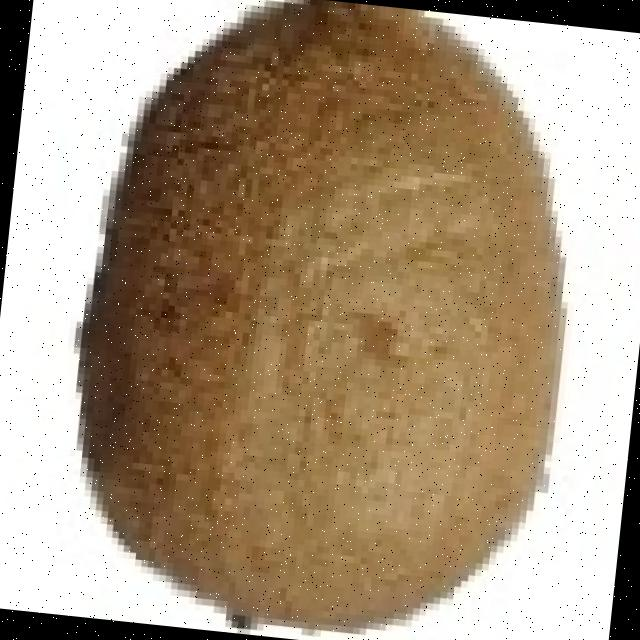kiwi: (90, 11, 566, 639)
